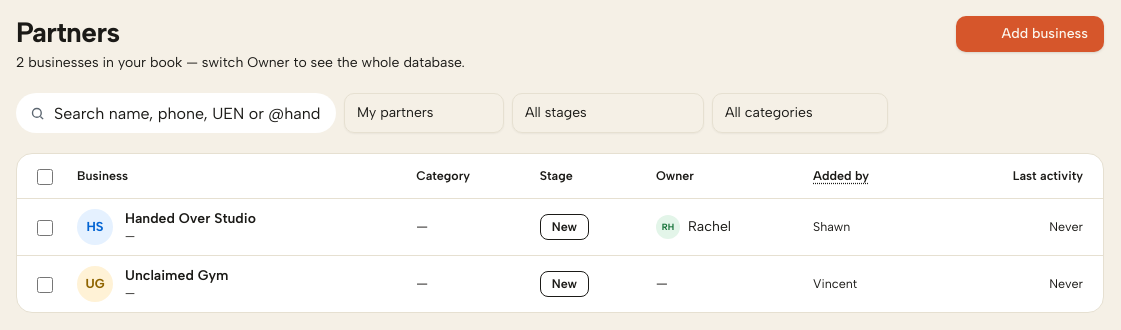
Test: the header explains itself — hovering the dotted label says it is not the owner
Hover over the button "Added by" at (841, 176), box [813,166,869,186]
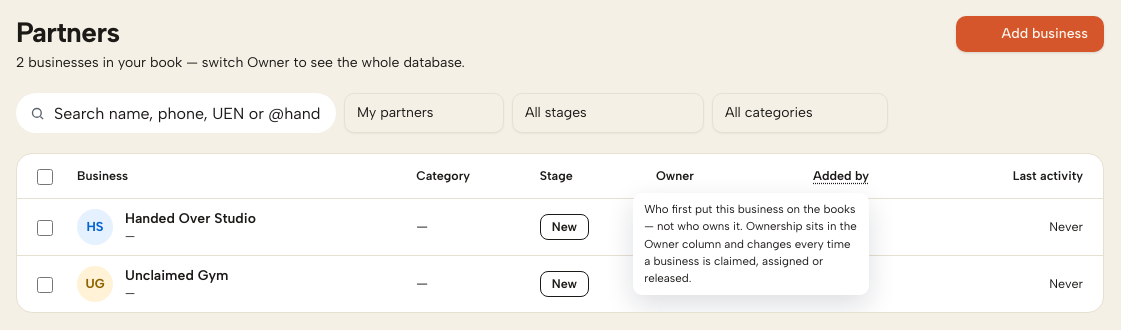
Expected: the tooltip shows "not who owns it", [644,202,857,285]
